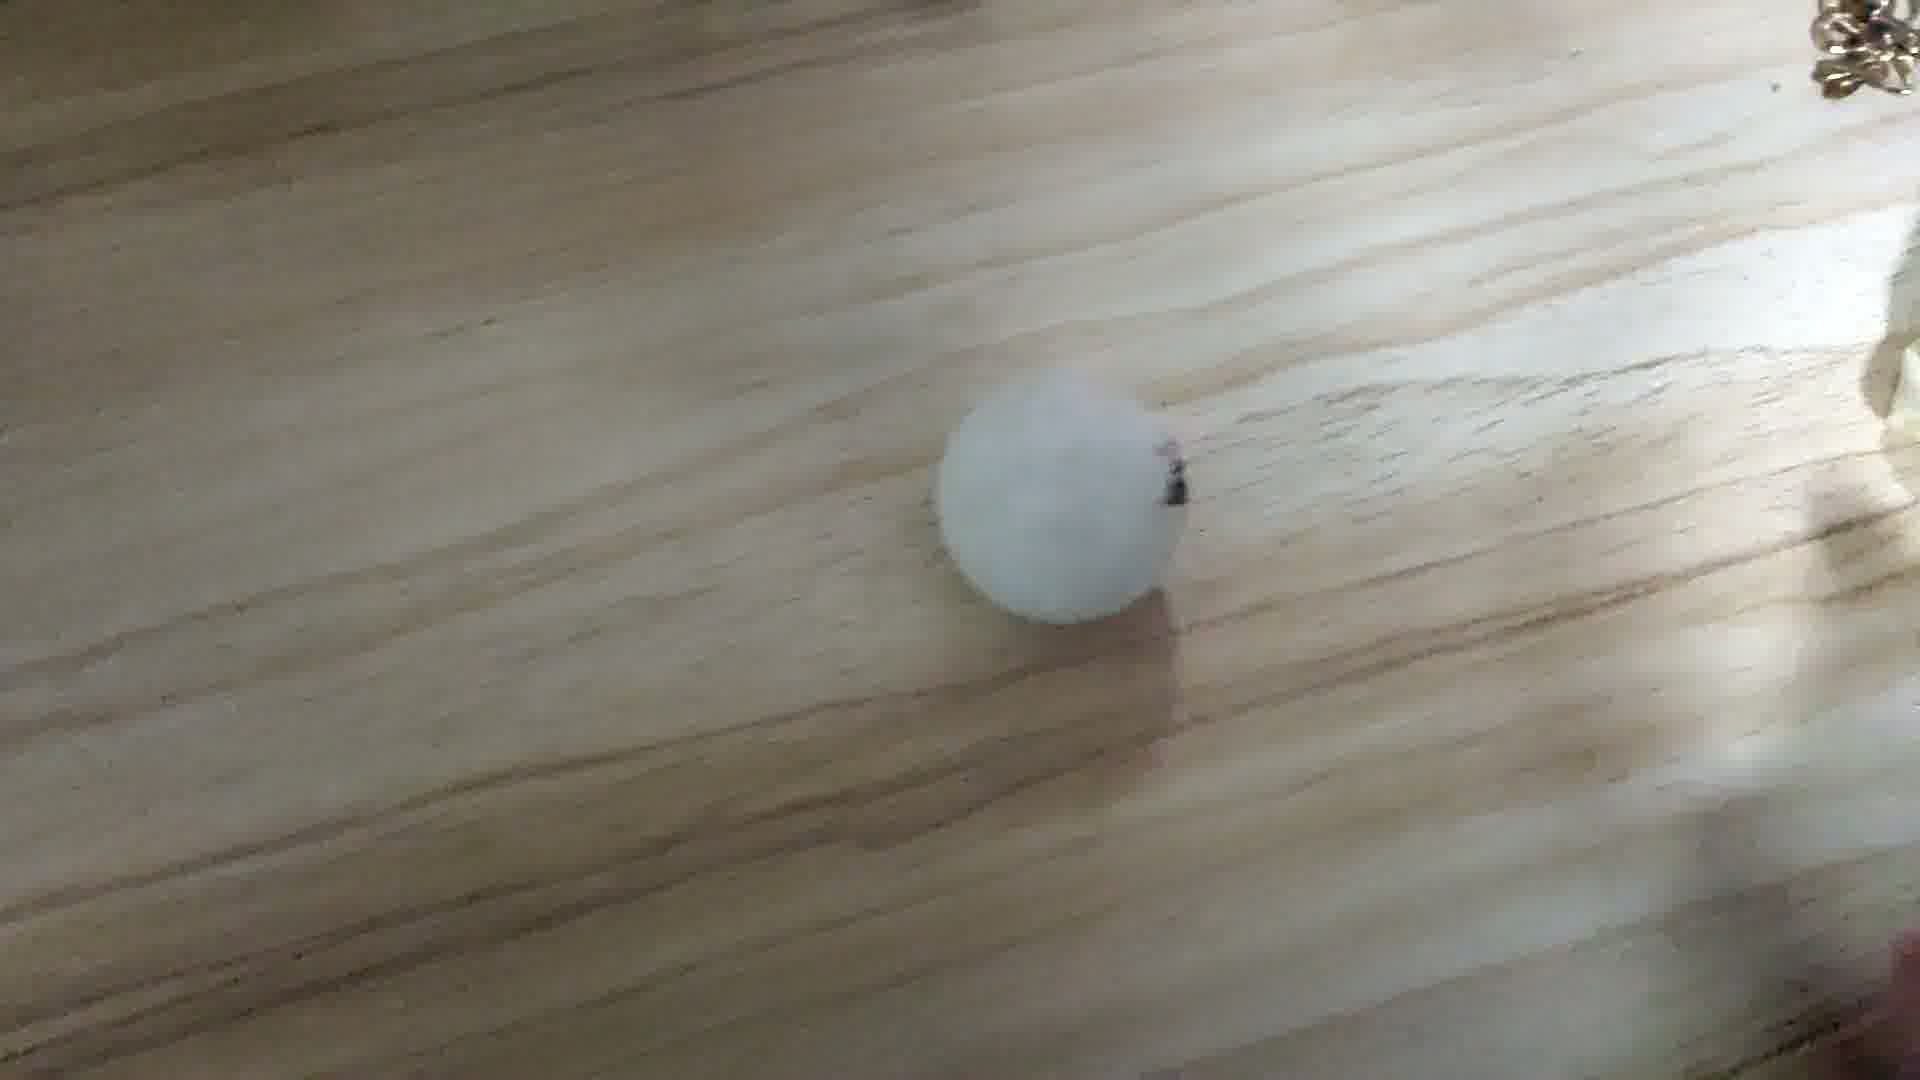Ball: (942, 382, 1196, 624)
